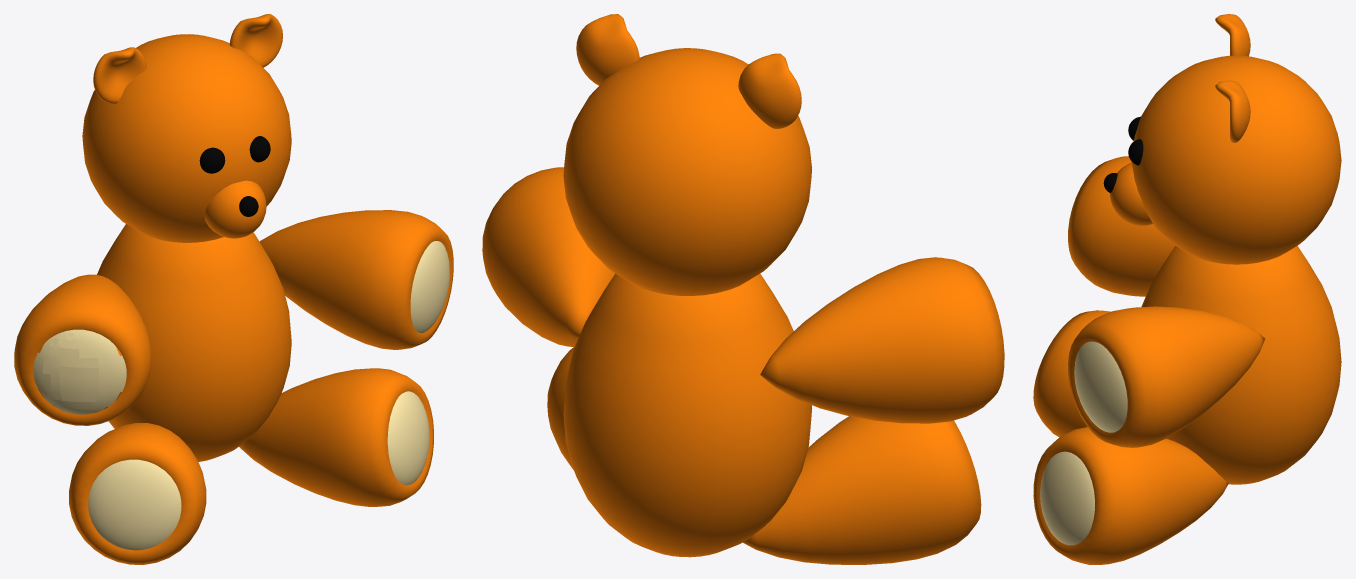
File: Teddy.fbx
The picture shows the model from 3 angles, left to right: view 1: azimuth 30°, elevation 25°; view 2: azimuth 150°, elevation 25°; view 3: azimuth 270°, elevation 25°; orthographic projection. The views are drawn at different scales.
Visible parts, largest first — view 1: Sphere.004, Sphere.007, Sphere.009, Sphere.011, Sphere.008, Sphere.010; view 2: Sphere.007, Sphere.004, Sphere.008, Sphere.010, Sphere.009, Sphere.011; view 3: Sphere.004, Sphere.007, Sphere.009, Sphere.011, Sphere.008, Sphere.010.
Boxes of the visible parts, x1,y1,x2,y2 form: Sphere.004: [82, 14, 291, 242]; Sphere.007: [97, 224, 291, 461]; Sphere.009: [259, 210, 453, 349]; Sphere.011: [239, 368, 433, 506]; Sphere.008: [14, 274, 151, 425]; Sphere.010: [69, 423, 206, 564]; Sphere.007: [563, 273, 811, 557]; Sphere.004: [563, 14, 811, 295]; Sphere.008: [760, 257, 1004, 423]; Sphere.010: [743, 416, 981, 564]; Sphere.009: [482, 167, 614, 346]; Sphere.011: [547, 347, 574, 469]; Sphere.004: [1103, 14, 1341, 264]; Sphere.007: [1141, 246, 1341, 484]; Sphere.009: [1068, 306, 1265, 447]; Sphere.011: [1033, 427, 1228, 564]; Sphere.008: [1068, 156, 1174, 296]; Sphere.010: [1033, 310, 1110, 437].
Bounding box in the file's own units: 475 × 474 × 293.
